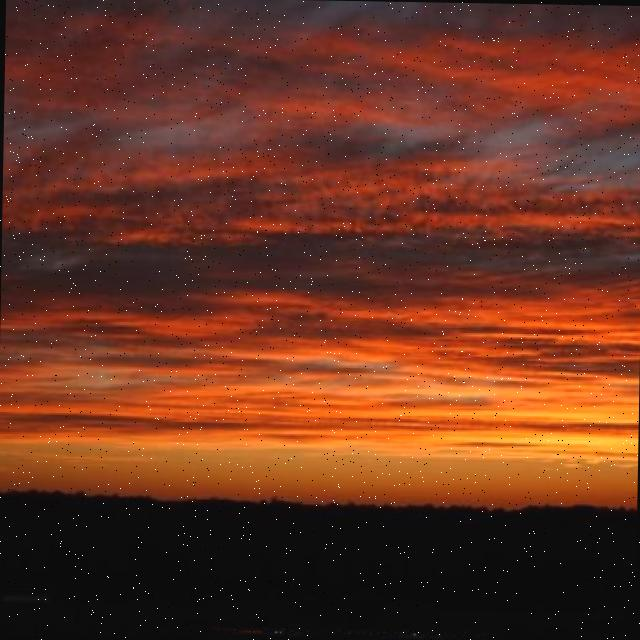As: (1, 7, 640, 454)
